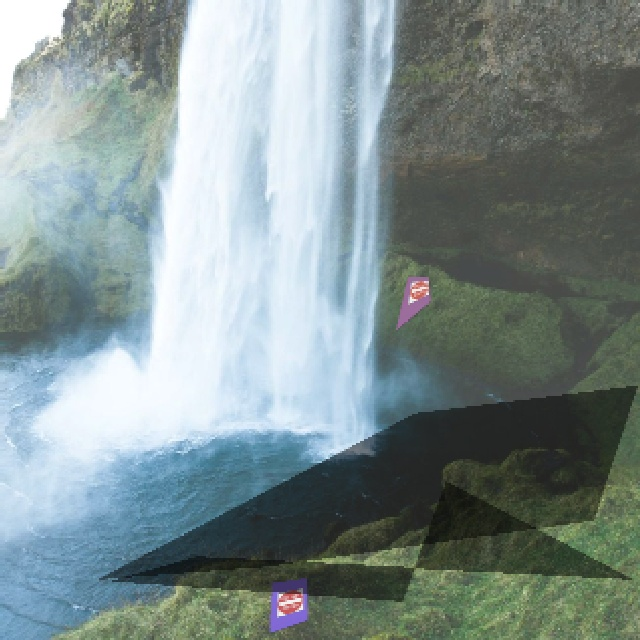DO_NOT_ENTER: (275, 587, 302, 616), (404, 279, 427, 303)
